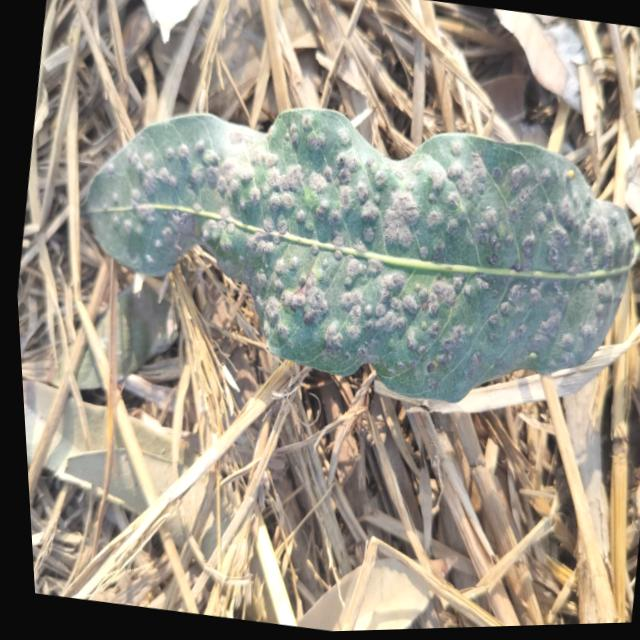gall midge: (255, 150, 460, 273)
